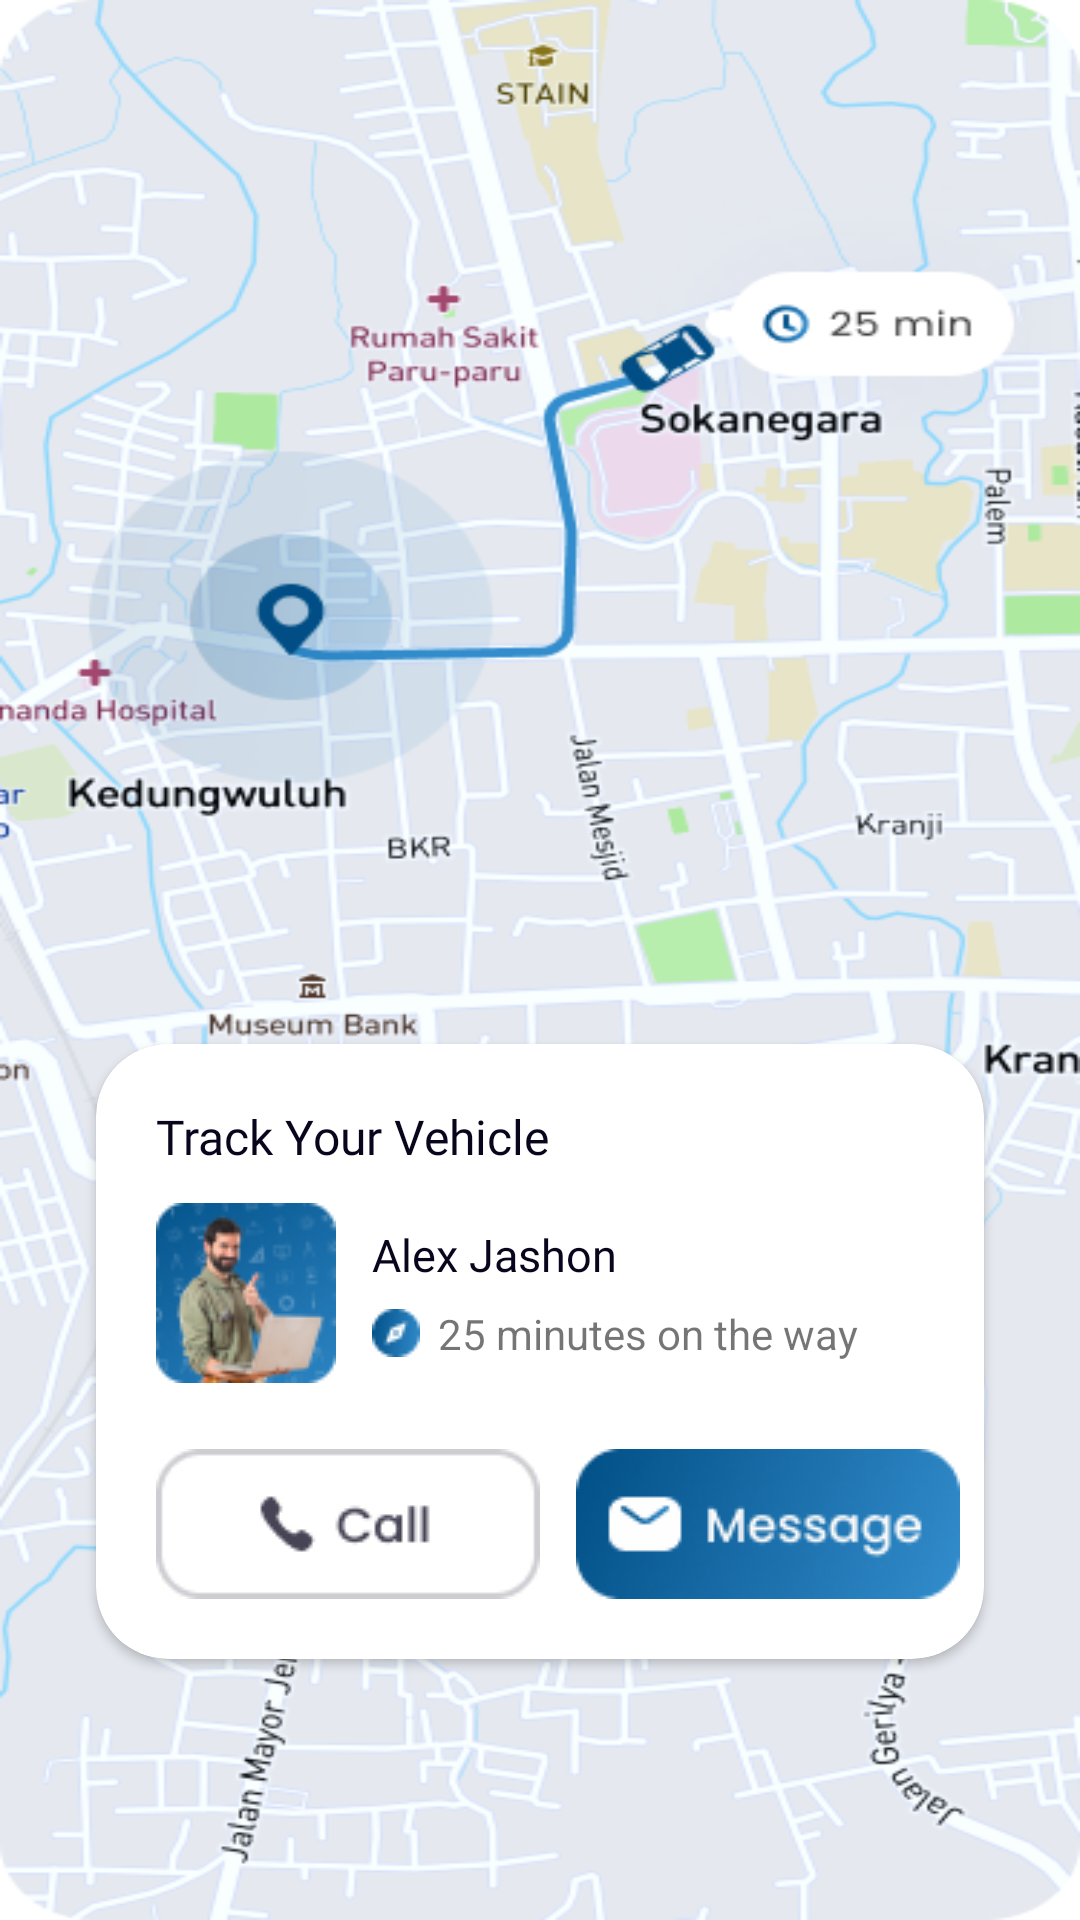

Point at icon controls on the screen. Image size 1080×1920, points as point (x, y).
track profile: point (246, 1293)
